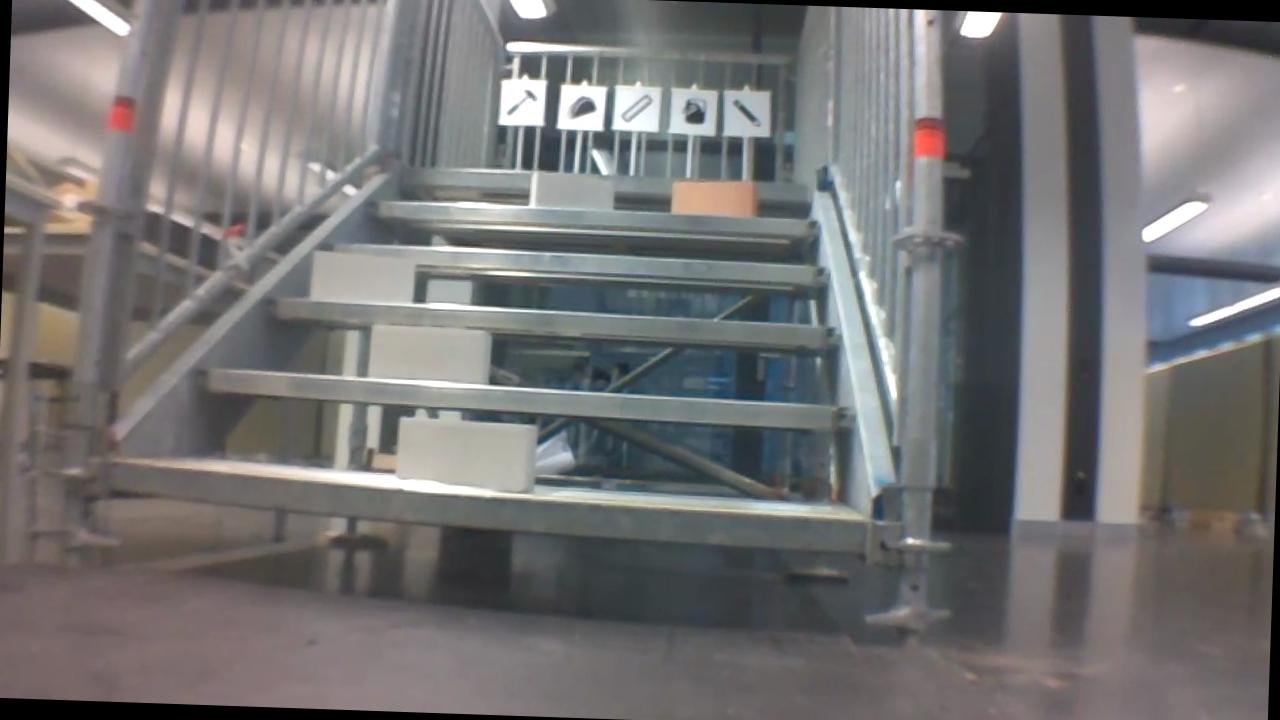brick: (395, 419, 535, 491), (368, 324, 489, 382), (311, 252, 411, 302), (673, 178, 754, 215), (530, 171, 610, 208)
bucket: (678, 93, 710, 126)
edge: (106, 459, 864, 550), (190, 368, 852, 429), (262, 298, 839, 349), (324, 240, 828, 288), (370, 201, 822, 236), (391, 165, 811, 200)
hammer: (502, 83, 539, 120)
pencil: (726, 94, 767, 133)
ruler: (620, 91, 656, 128)
steps: (98, 150, 888, 573)
taco: (564, 92, 600, 122)
